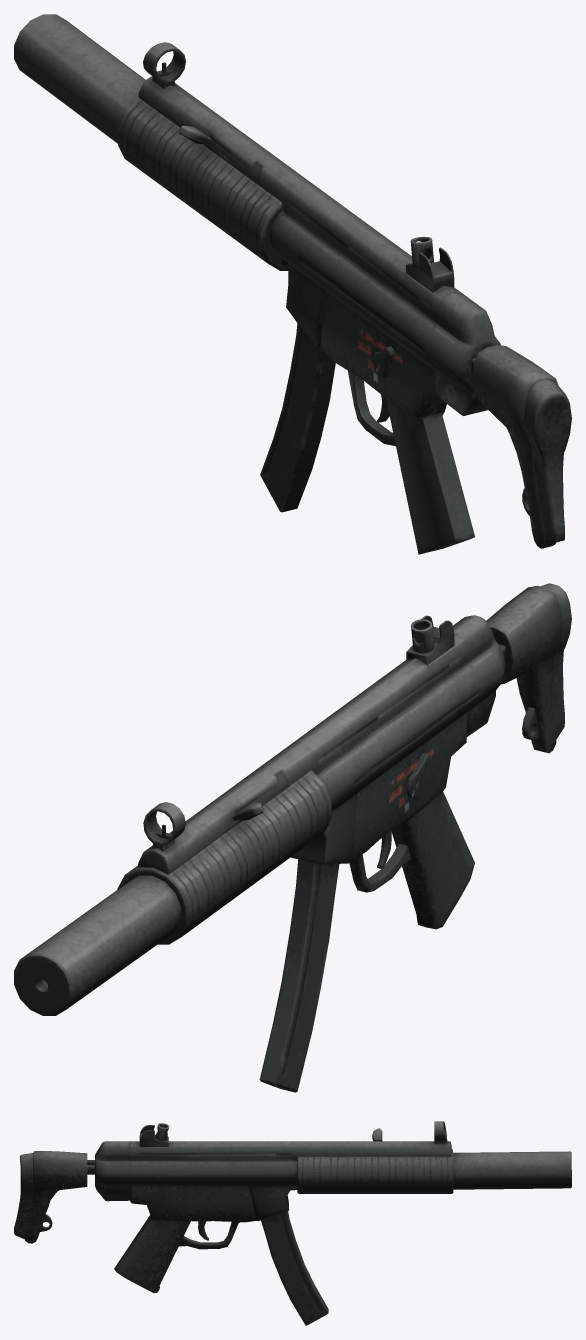
3 renders of one model, top to bottom at view 1: azimuth 30°, elevation 25°; view 2: azimuth 150°, elevation 25°; view 3: azimuth 270°, elevation 25°, orthographic. The views are drawn at different scales.
Visible parts, largest first — view 1: mp5sd; view 2: mp5sd; view 3: mp5sd.
Part boxes in pixels (x1,y1,x2,y2): mp5sd: (14,14,571,554); mp5sd: (14,583,571,1092); mp5sd: (14,1121,571,1325).
Bounding box in the file's own units: 0.0652 × 0.2988 × 0.75.
1 material, 1 textured.
